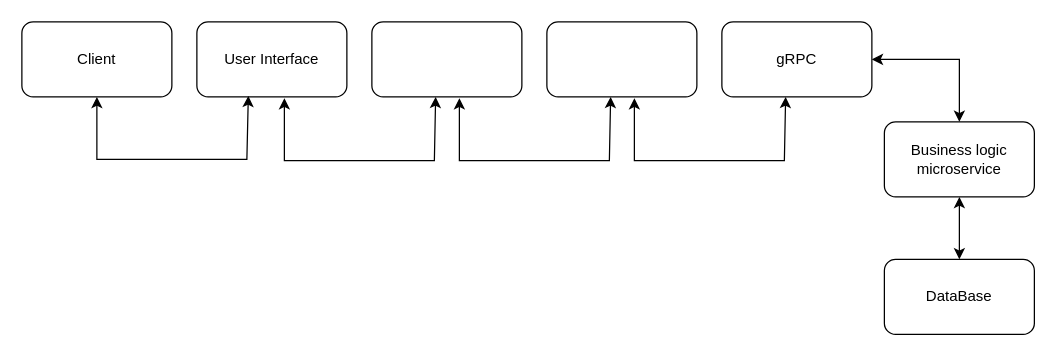
The diagram is 1056 pixels wide and 356 high, and some of its shapes have lost their labels. Here are the shapes that lost their labels. From the top down, the centre of each, then its label:
the point at 446,59: REST api
the point at 621,59: Backend microservice
